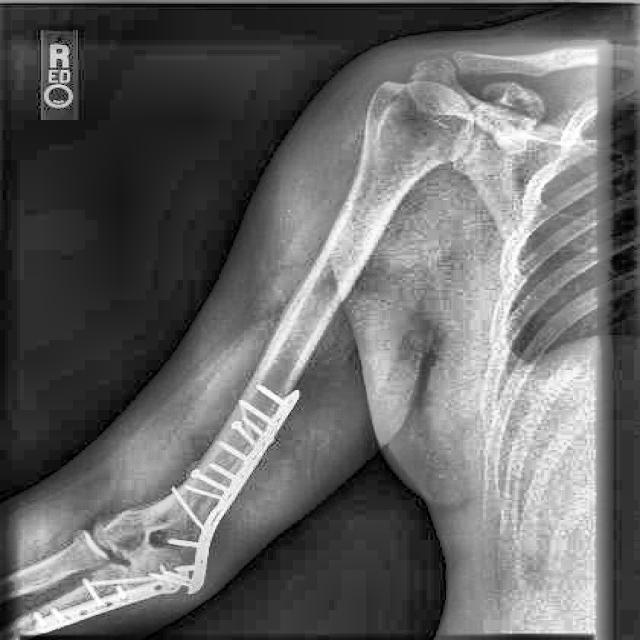humerus: (173, 438, 262, 533)
humerus fracture: (78, 137, 461, 614)
